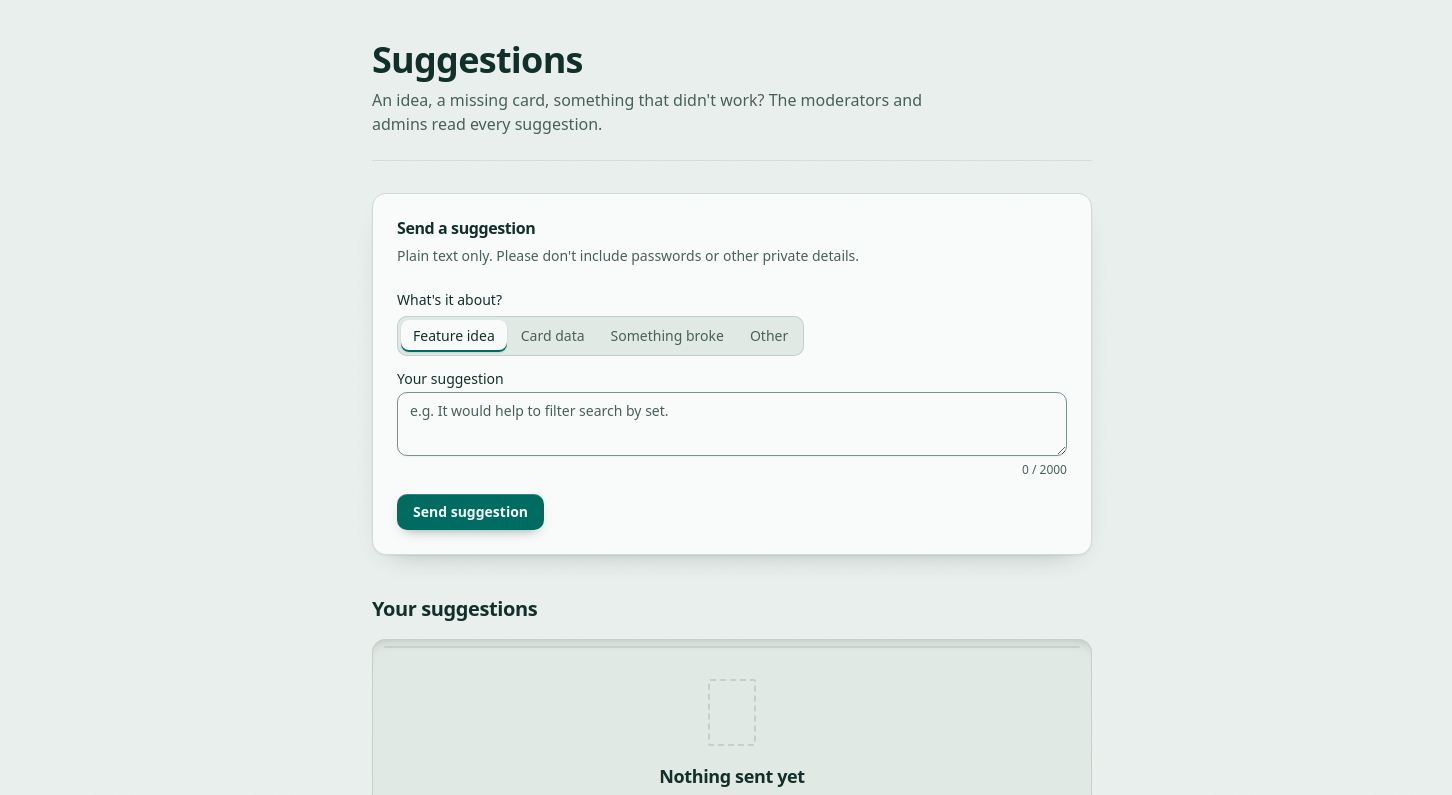
Test: a too-short suggestion is caught before sending; a good one shows a green check and joins the list
Expected: the text "Nothing sent yet" is shown, 659,762 -> 805,790
Type "short" into the text box labelled "Your suggestion" at (732, 424), box 397,392 -> 1067,456
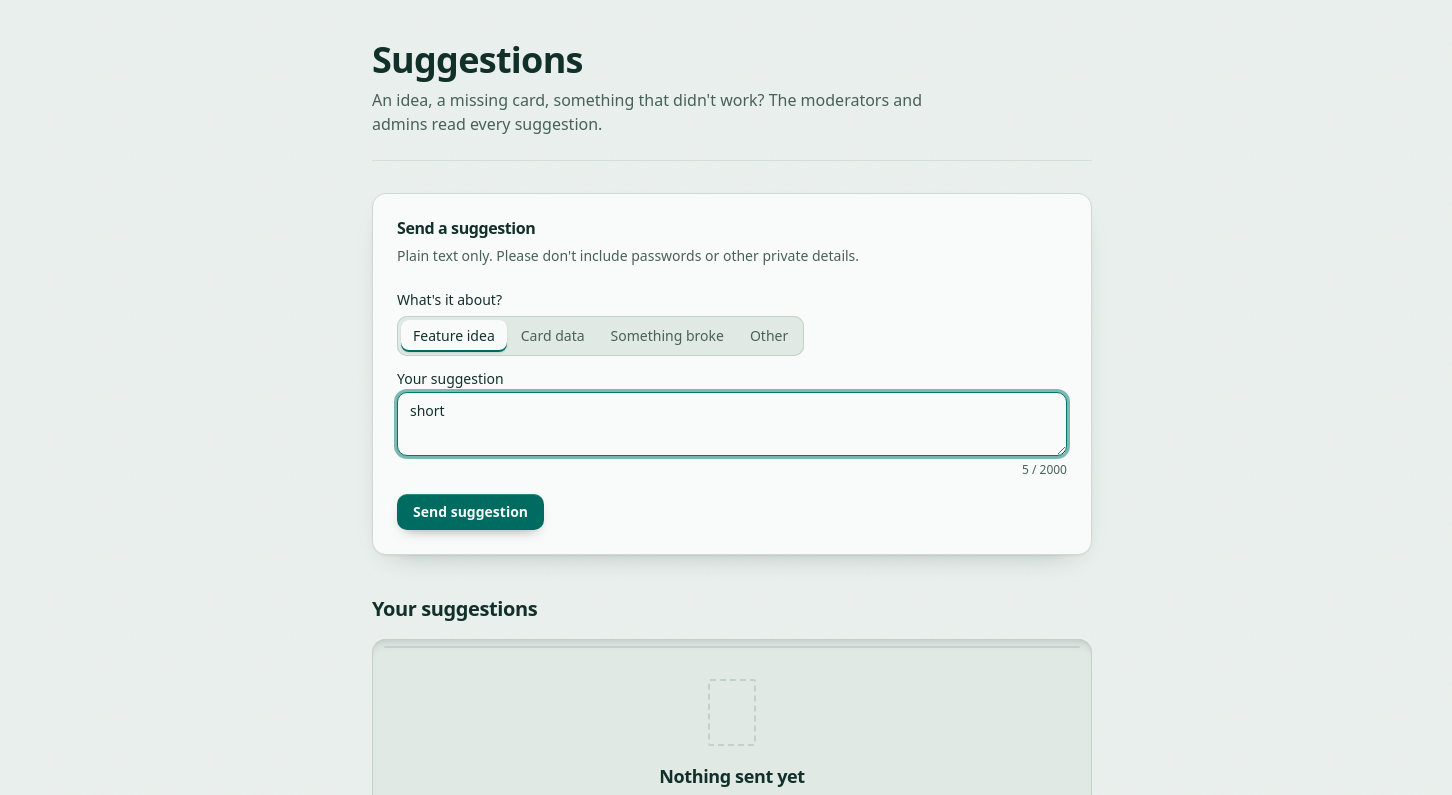
Click the button "Send suggestion" at (470, 512), box 397,494 -> 544,530
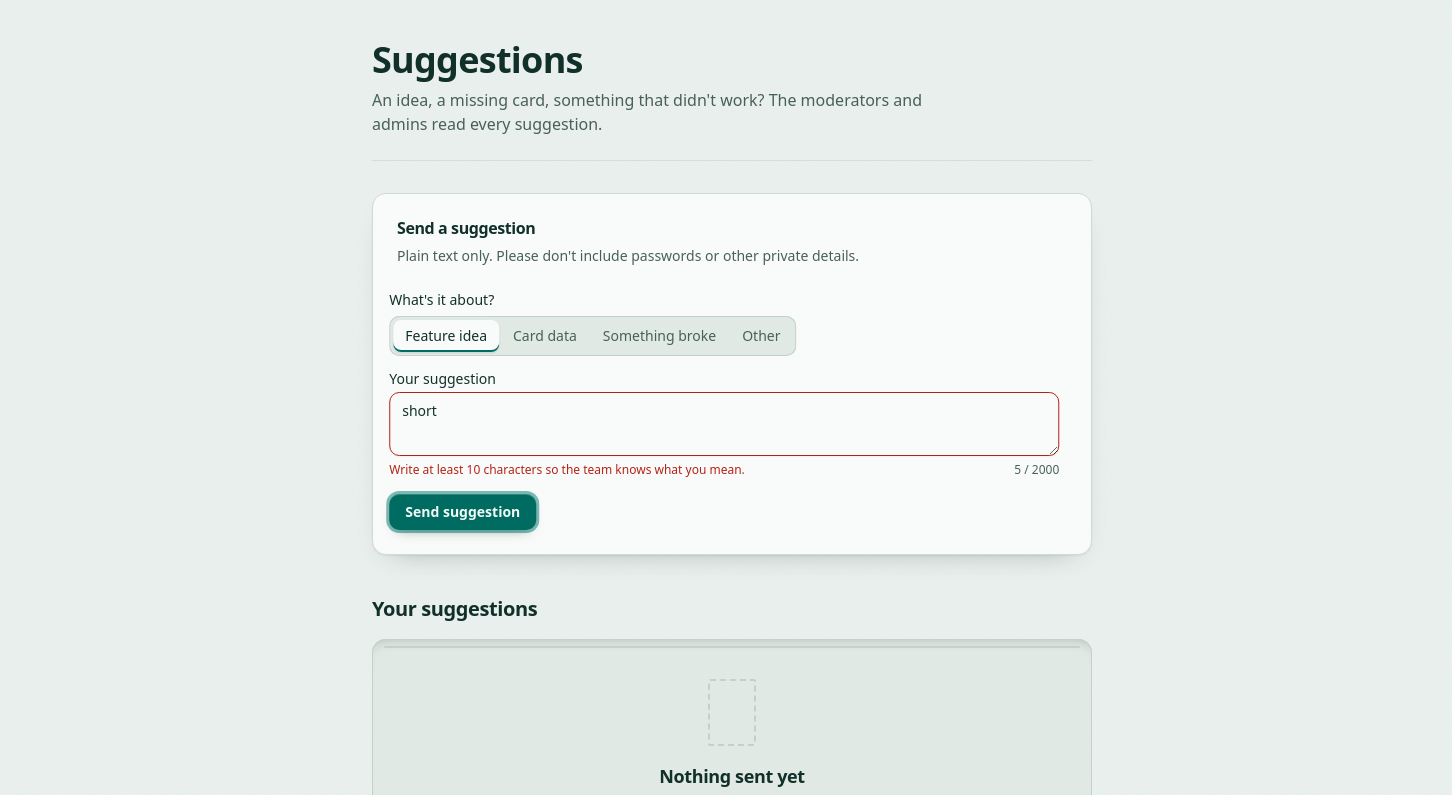
Expected: the text "at least 10 characters" is shown, 401,461 -> 756,478
Click the button "Card data" at (556, 336), box 513,320 -> 600,352
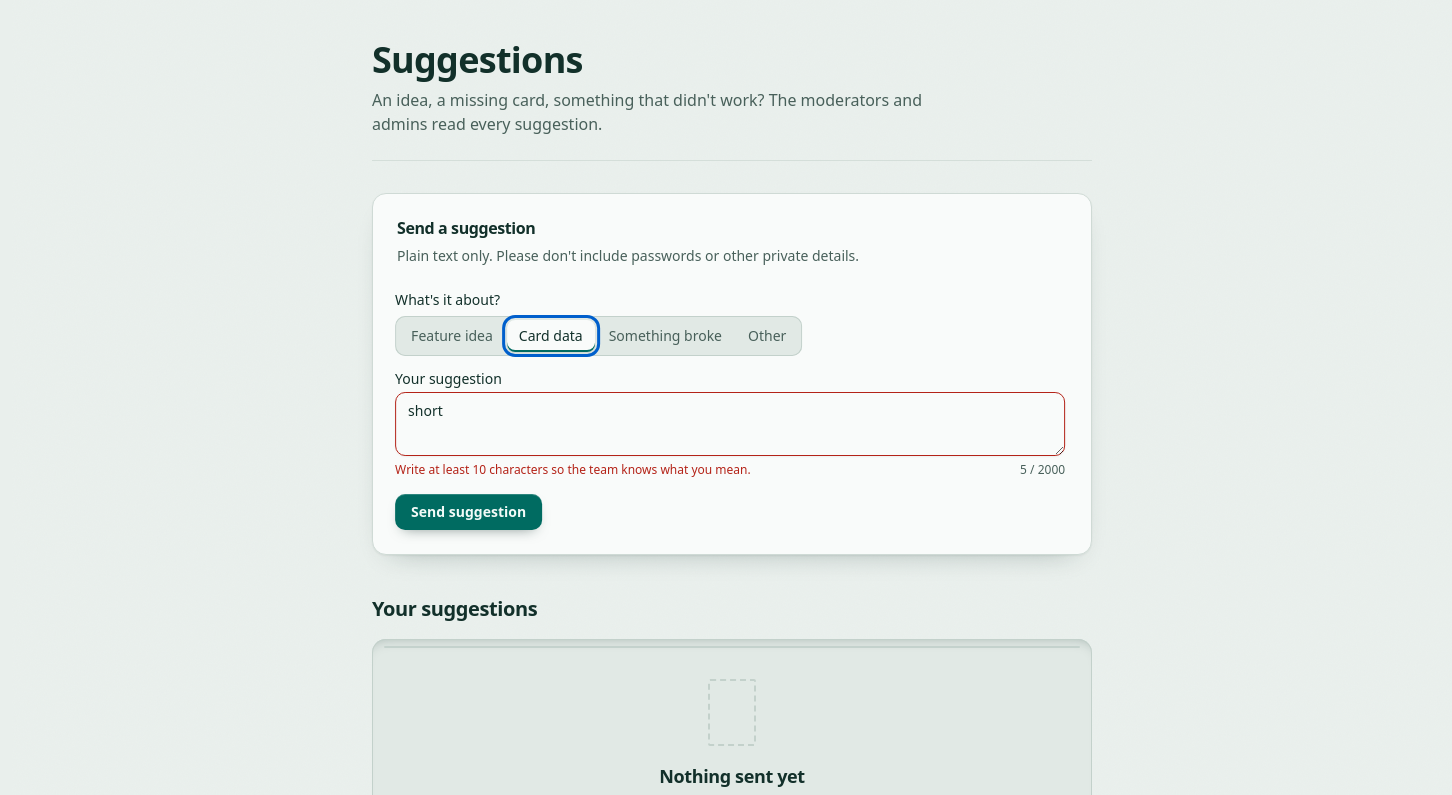
Type " please, Doctor Doom is missing a printing." into the text box labelled "Your suggestion" at (731, 424), box 396,392 -> 1066,456
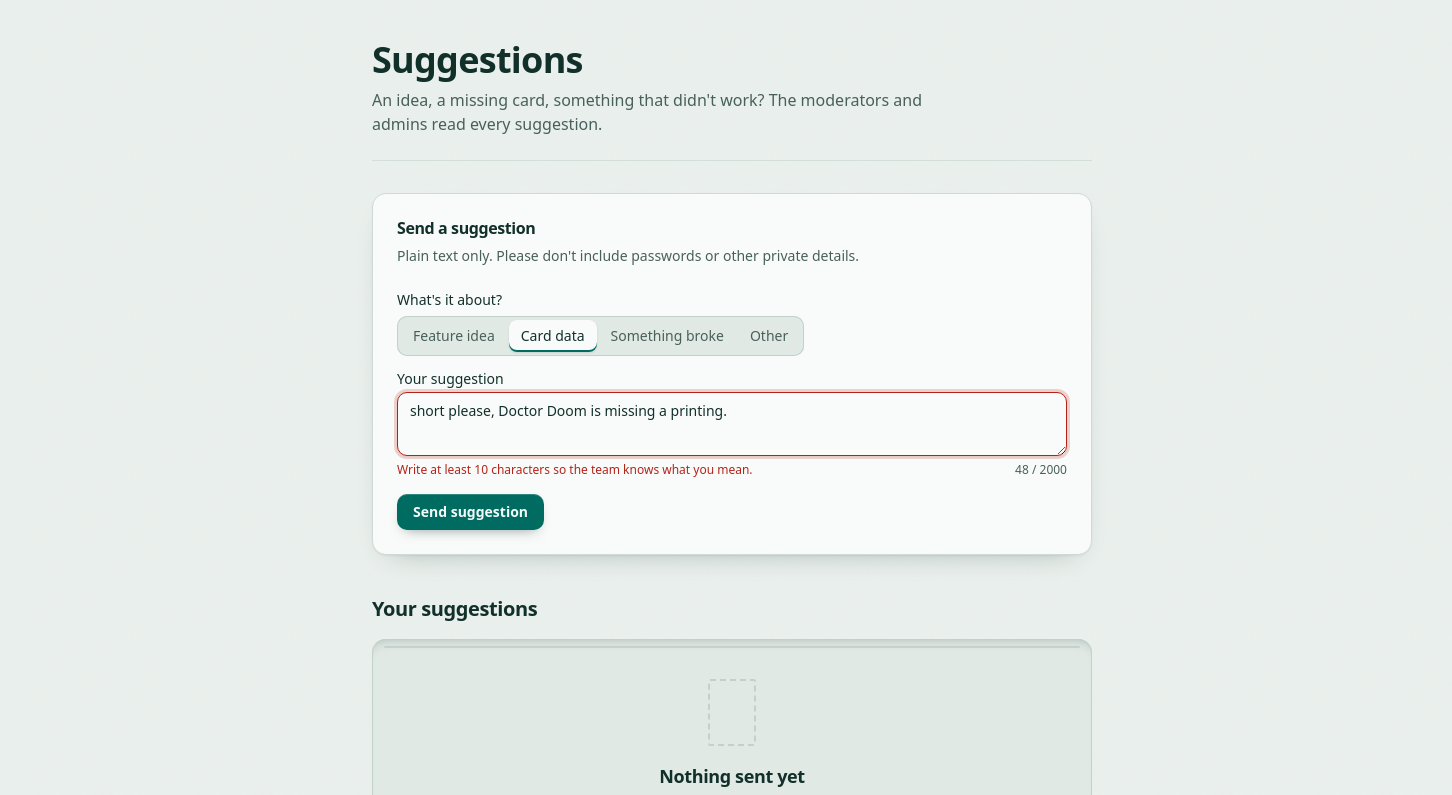
Click the button "Send suggestion" at (470, 512), box 397,494 -> 544,530
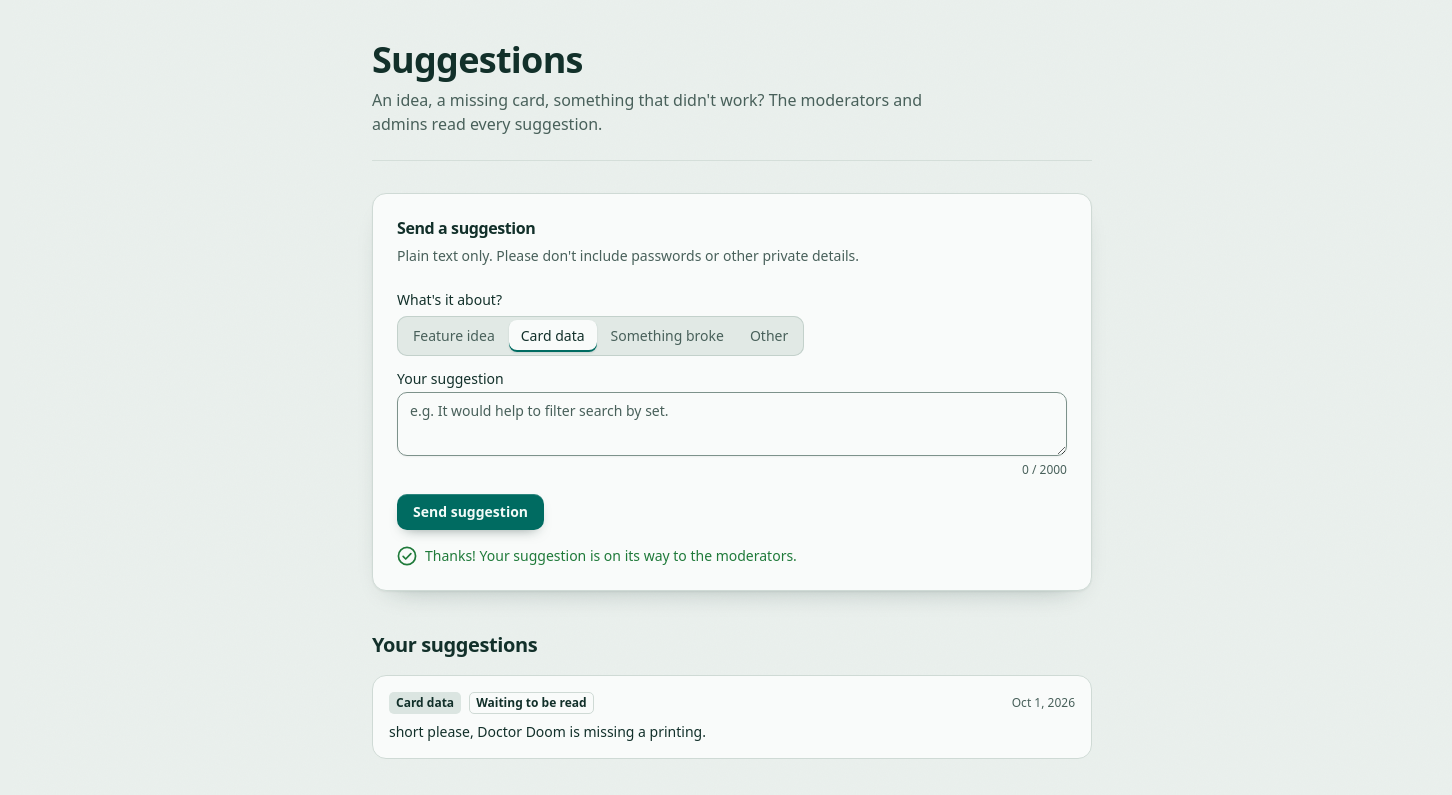
Expected: the text "Thanks! Your suggestion is on its way to the moderators." is shown, 425,546 -> 797,566
Expected: the text "Waiting to be read" is shown, 469,692 -> 594,714
Expected: the text box labelled "Your suggestion" is empty, 397,392 -> 1067,456
